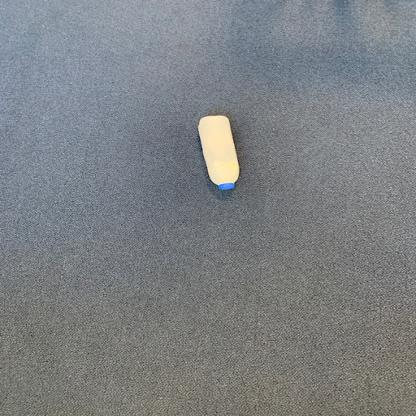trash: (194, 115, 244, 191)
